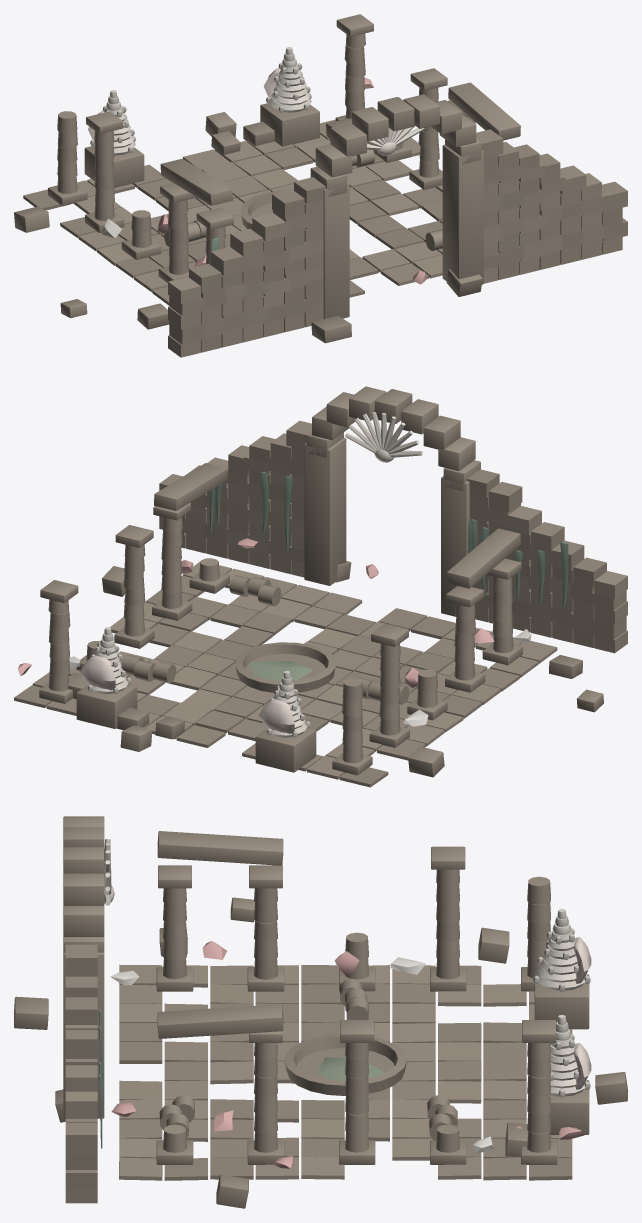
The model's file is sea_temple.gltf.
3 views of the same model, one above another, from view 1: azimuth 30°, elevation 25°; view 2: azimuth 150°, elevation 25°; view 3: azimuth 270°, elevation 25° (orthographic). The views are drawn at different scales.
Visible parts, largest first — view 1: Body; view 2: Body; view 3: Body.
Part boxes in pixels (left/top/right/bottom): Body: left=14, top=14, right=627, bottom=357; Body: left=14, top=386, right=627, bottom=787; Body: left=14, top=816, right=627, bottom=1208.
Bounding box in the file's own units: 30.71 × 11.87 × 26.97.
